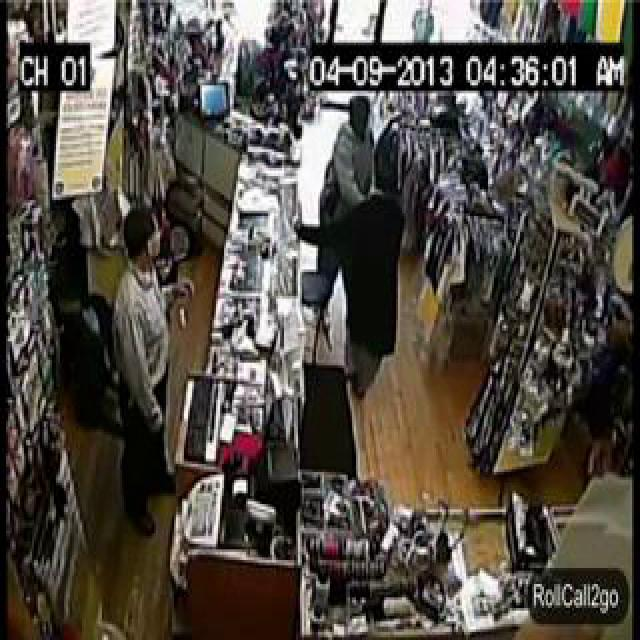robbery: (228, 0, 494, 532)
